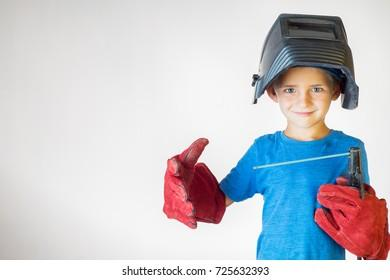gloves: (313, 175, 390, 260), (163, 137, 227, 229)
